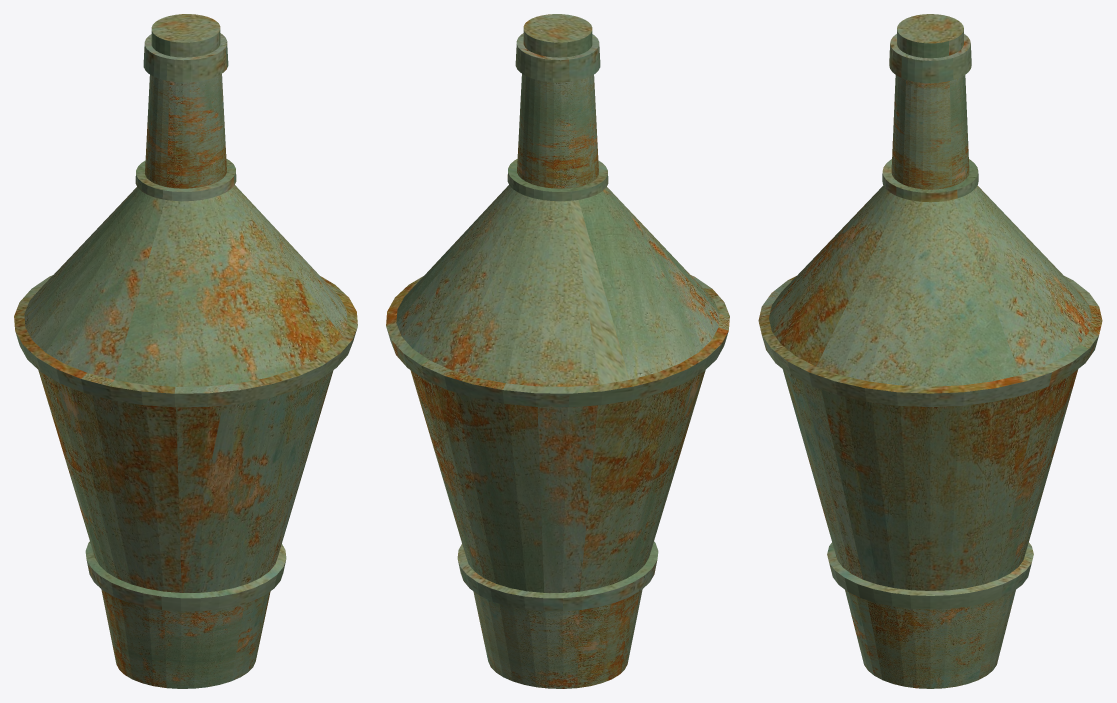
Rendered from boneashbox.fbx.
3 renders of one model, left to right at view 1: azimuth 30°, elevation 25°; view 2: azimuth 150°, elevation 25°; view 3: azimuth 270°, elevation 25°, orthographic.
Visible parts, largest first — view 1: Cylinder; view 2: Cylinder; view 3: Cylinder.
Part boxes in pixels (bbox=[...]): Cylinder: bbox=[14, 14, 357, 688]; Cylinder: bbox=[386, 14, 729, 688]; Cylinder: bbox=[758, 14, 1102, 688].
Size of the model in its own units: 159 by 322 by 159.
Materials: 1 (1 with a texture image).
